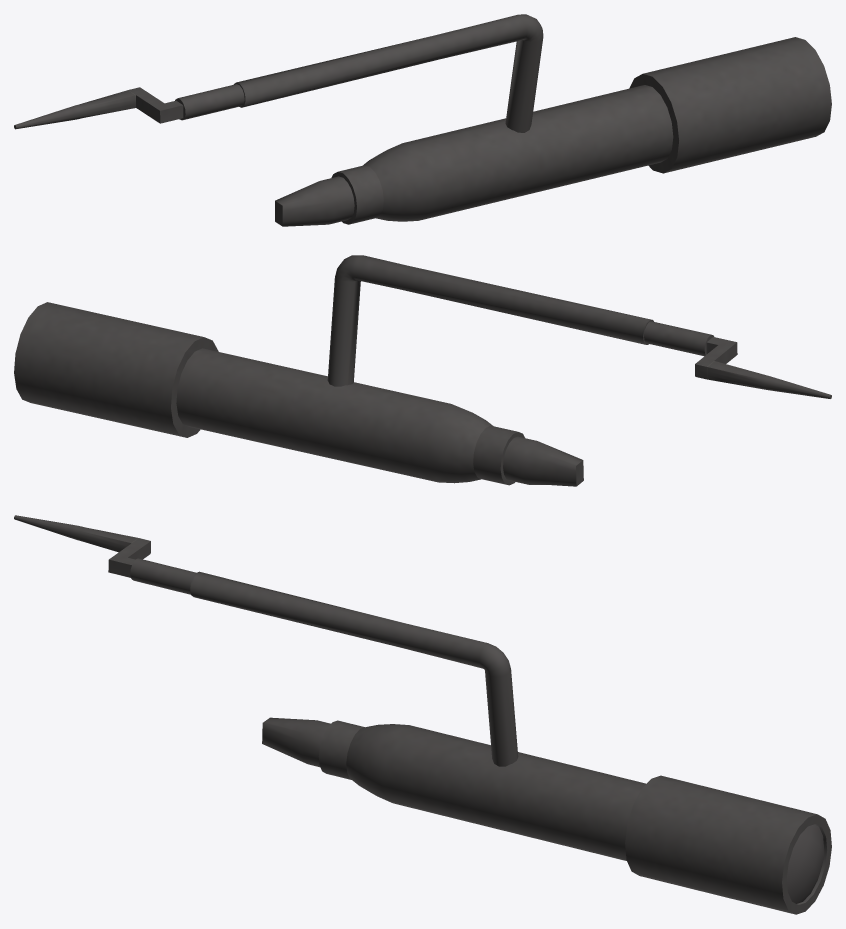
Rendered from ObservatorioTelescopioPieza2.fbx.
3 renders of one model, top to bottom at view 1: azimuth 30°, elevation 25°; view 2: azimuth 150°, elevation 25°; view 3: azimuth 330°, elevation 25°, orthographic.
Visible parts, largest first — view 1: Cylinder.012; view 2: Cylinder.012; view 3: Cylinder.012.
Boxes of the visible parts, bbox=[...] form: Cylinder.012: bbox=[14, 14, 831, 226]; Cylinder.012: bbox=[14, 255, 831, 486]; Cylinder.012: bbox=[14, 515, 831, 914].
Bounding box in the file's own units: 1405 × 349 × 160.
